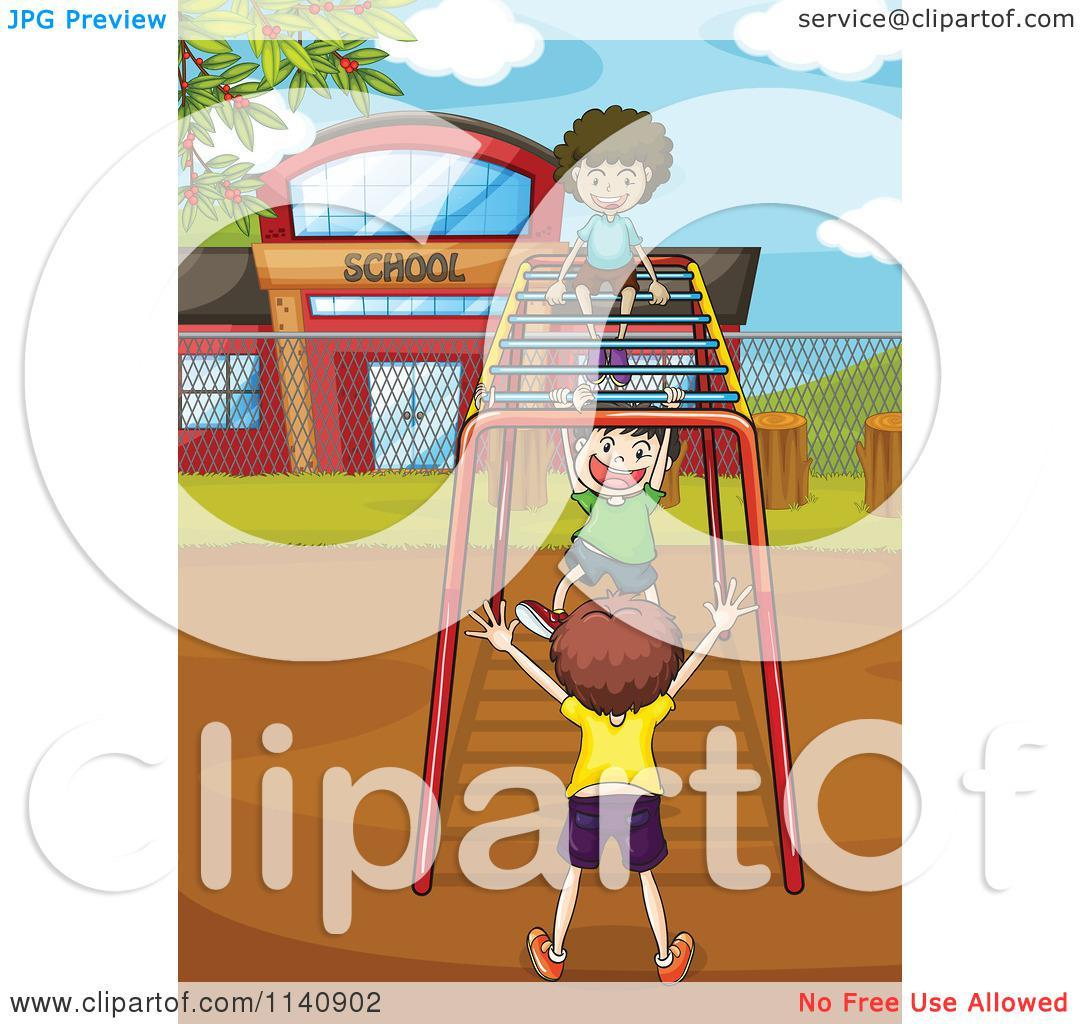person: (453, 600, 736, 976), (546, 97, 668, 394), (542, 387, 680, 612)
